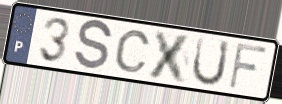3: (39, 16, 72, 64)
C: (113, 29, 153, 74)
F: (226, 41, 270, 91)
S: (73, 19, 115, 73)
U: (190, 35, 232, 88)
X: (145, 28, 195, 86)
